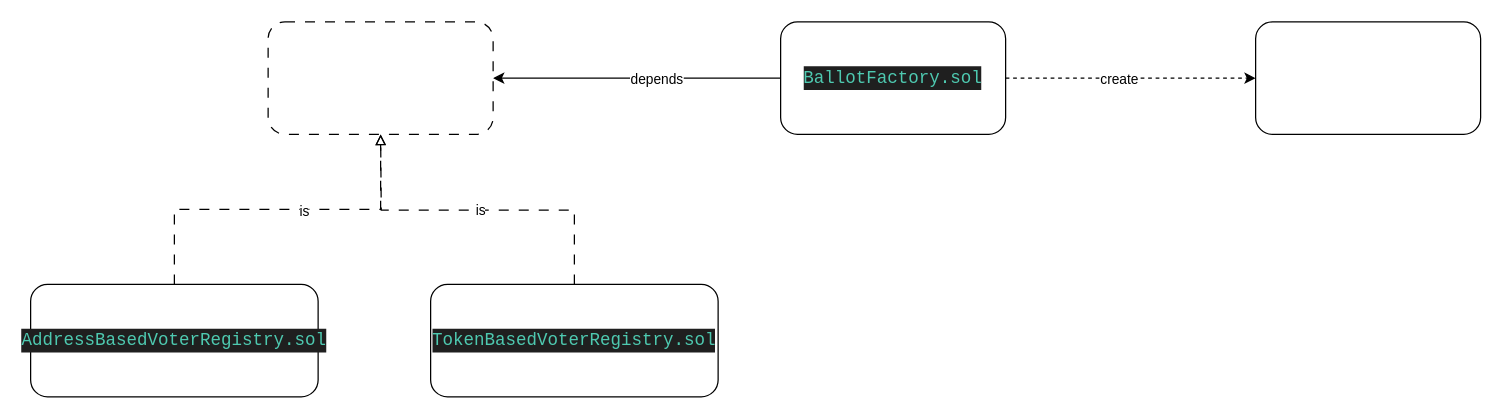
Some shapes in this 1503 by 419 pixel diagram are drawn without their labels. Each missing label, with the centre of its shape:
Ballot.sol: (1367,77)
IVoterRegistry.sol: (380,77)
